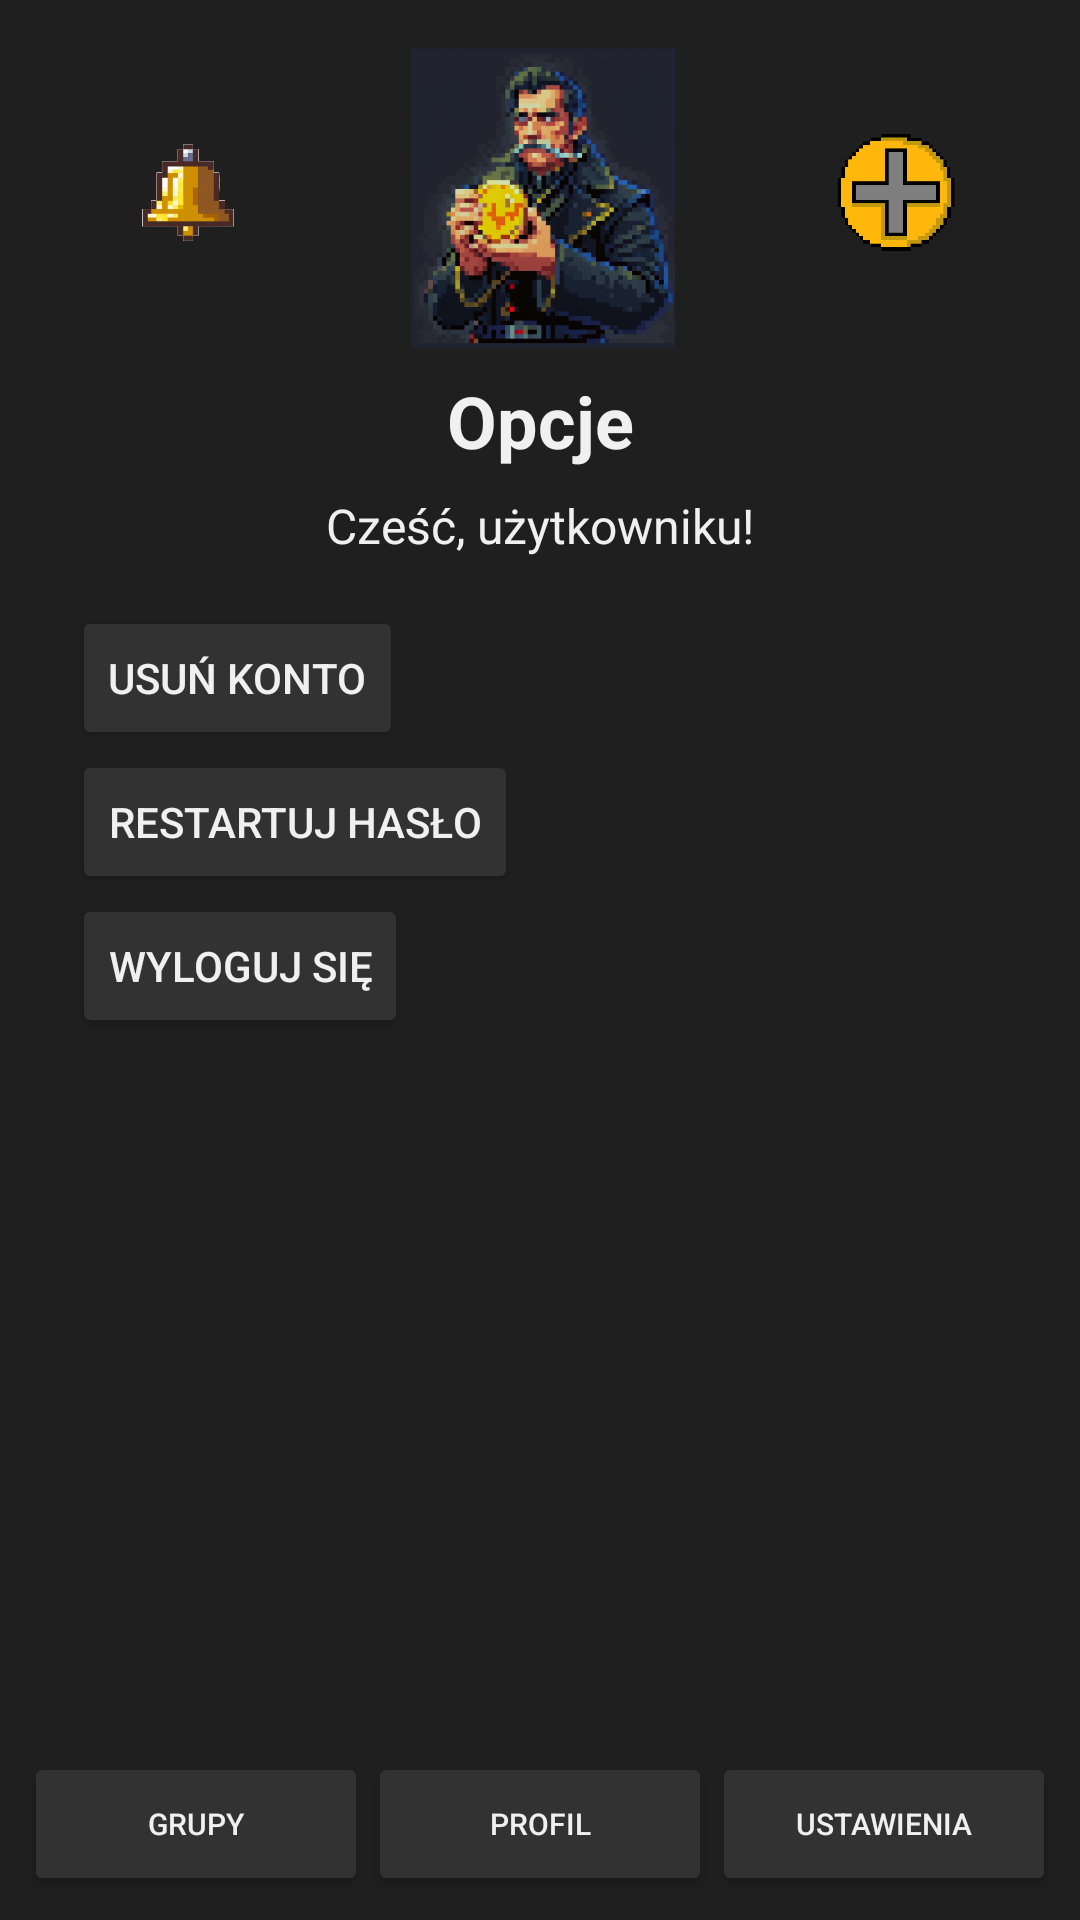

Icon bounding boxes for this 1080px×1920px phone screenshot, format bbox(x1, y1, x2, y2):
Dodawanie Długów: bbox(838, 134, 954, 251)
Notifications Icon: bbox(142, 144, 234, 241)
